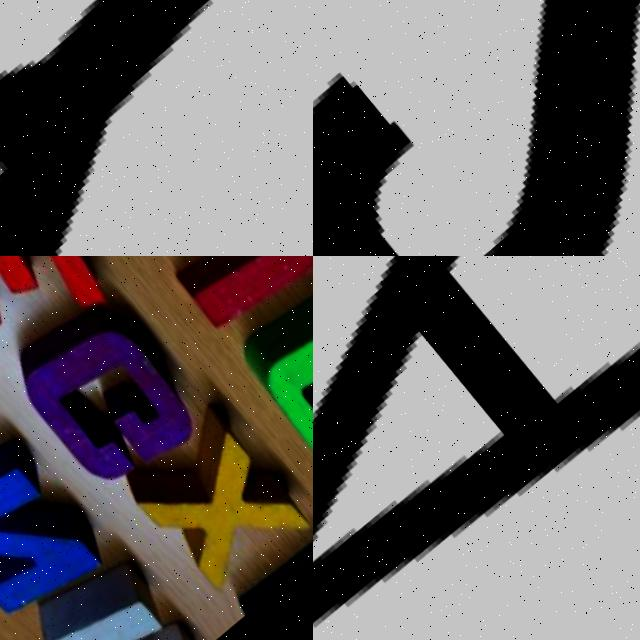2: (313, 0, 640, 256)
A: (313, 256, 640, 640)
C: (226, 269, 313, 511)
E: (0, 256, 128, 377)
G: (4, 287, 225, 505)
H: (26, 535, 223, 640)
N: (0, 413, 136, 640)
U: (88, 256, 313, 362)
X: (117, 393, 313, 598)
Y: (0, 0, 313, 256)
